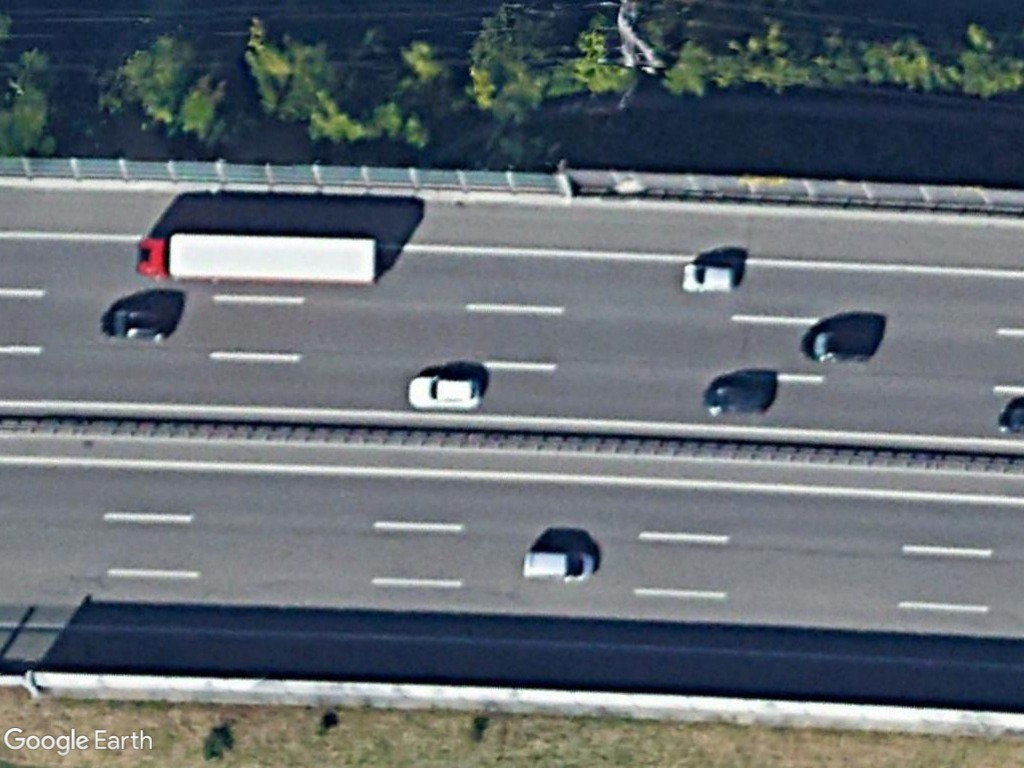car: (516, 548, 602, 585), (404, 372, 485, 411)
longvehicle: (133, 230, 383, 288)
